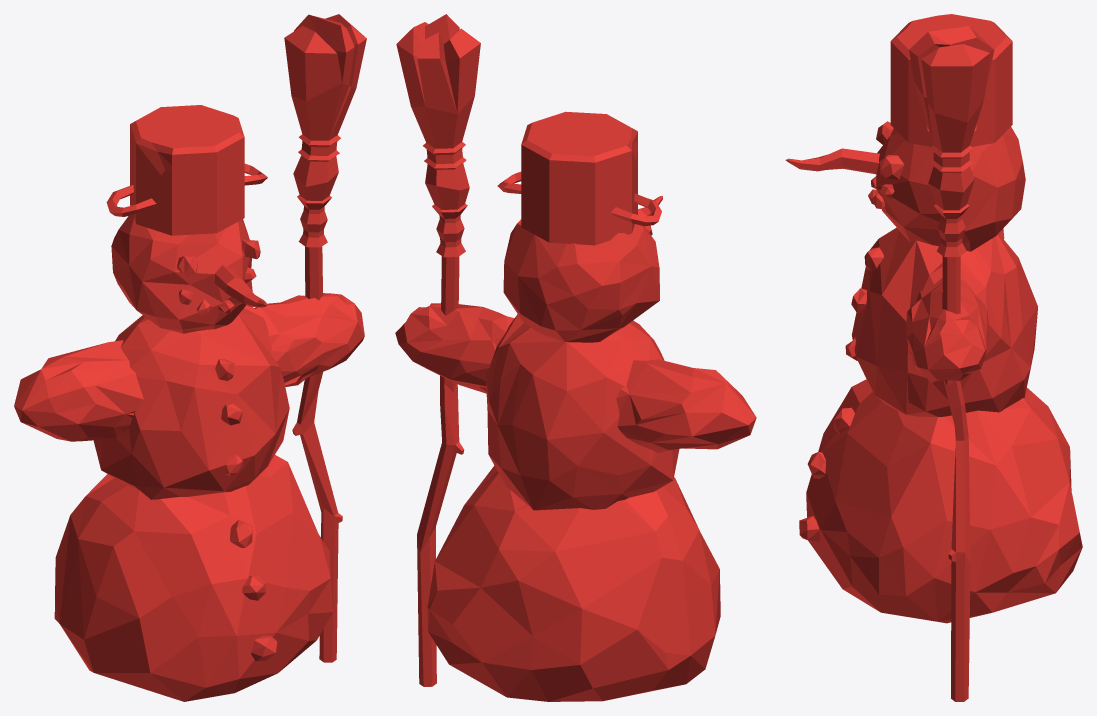
The model's file is SM_Snowman_B.fbx.
The picture shows the model from 3 angles, left to right: view 1: azimuth 30°, elevation 25°; view 2: azimuth 150°, elevation 25°; view 3: azimuth 270°, elevation 25°; orthographic projection. The views are drawn at different scales.
Visible parts, largest first — view 1: snowman-b; view 2: snowman-b; view 3: snowman-b.
Part boxes in pixels (box(x1,y1,x2,y2)): snowman-b: box(14, 14, 366, 701); snowman-b: box(395, 14, 756, 701); snowman-b: box(785, 14, 1082, 701).
Size of the model in its own units: 0.8972 by 1.6 by 0.6481.
